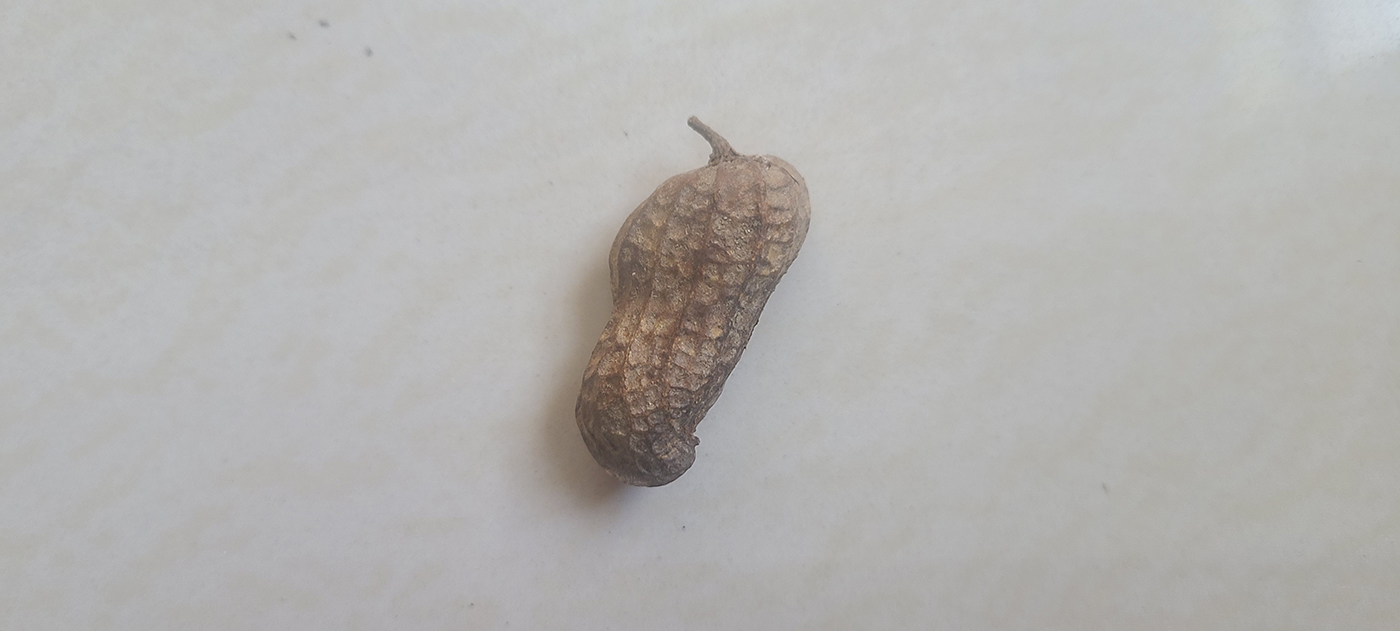l: (570, 152, 812, 489)
